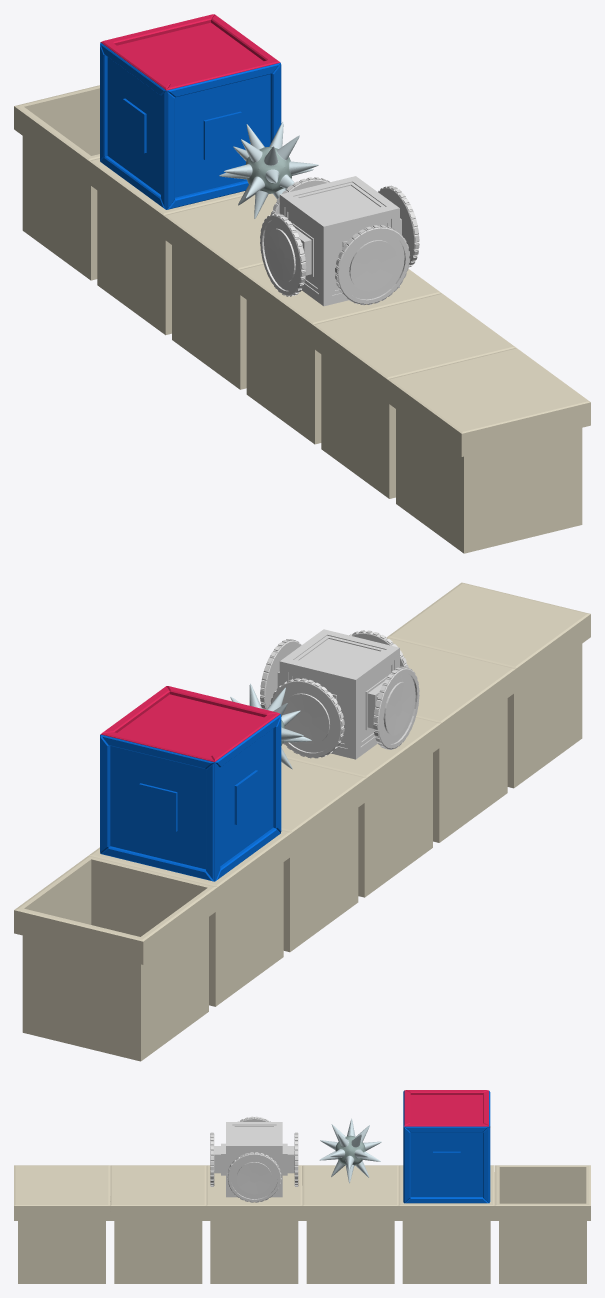
Rendered from magnet.fbx.
The picture shows the model from 3 angles, top to bottom: view 1: azimuth 30°, elevation 25°; view 2: azimuth 150°, elevation 25°; view 3: azimuth 270°, elevation 25°; orthographic projection. The views are drawn at different scales.
Parts seen in each view (by area): view 1: Cube.006, Cube, Cube.005, Cube.000, Cube.007, Cube.003, Cube.002, Cube.001, Cylinder.001, spikeball, Cylinder.000, Cylinder.002; view 2: Cube.007, Cube, Cube.006, Cube.005, Cube.000, Cube.003, Cube.002, Cube.001, Cylinder.003, Cylinder.000, Cylinder.002, spikeball; view 3: Cube.005, Cube.007, Cube.006, Cube.000, Cube, Cube.003, Cube.002, Cube.001, Cylinder.002, spikeball, Cylinder.001, Cylinder.003.
Boxes of the visible parts, x1,y1,x2,y2 form: Cube.006: (387,347,590,553); Cube: (100,14,281,209); Cube.005: (312,293,515,498); Cube.000: (163,193,276,389); Cube.007: (14,85,99,280); Cube.003: (238,263,440,444); Cube.002: (88,158,244,335); Cube.001: (279,176,401,306); Cylinder.001: (335,225,409,305); spikeball: (219,122,318,218); Cylinder.000: (260,213,306,296); Cylinder.002: (378,185,419,267); Cube.007: (14,855,217,1061); Cube: (100,686,281,881); Cube.006: (387,582,590,788); Cube.005: (386,637,516,842); Cube.000: (281,758,366,952); Cube.003: (281,717,441,897); Cube.002: (89,830,292,1006); Cube.001: (277,629,399,759); Cylinder.003: (269,678,344,758); Cylinder.000: (373,666,419,749); Cylinder.002: (260,639,301,709); spikeball: (230,683,311,769); Cube.005: (110,1165,206,1283); Cube.007: (494,1165,590,1283); Cube.006: (14,1165,110,1283); Cube.000: (302,1165,398,1283); Cube: (403,1090,490,1203); Cube.003: (206,1165,302,1283); Cube.002: (398,1165,494,1283); Cube.001: (214,1122,294,1197); Cylinder.002: (227,1152,281,1202); spikeball: (319,1118,381,1183); Cylinder.001: (210,1132,214,1186); Cylinder.003: (294,1132,298,1186).
Bounding box in the file's own units: 200 × 362 × 1200.
